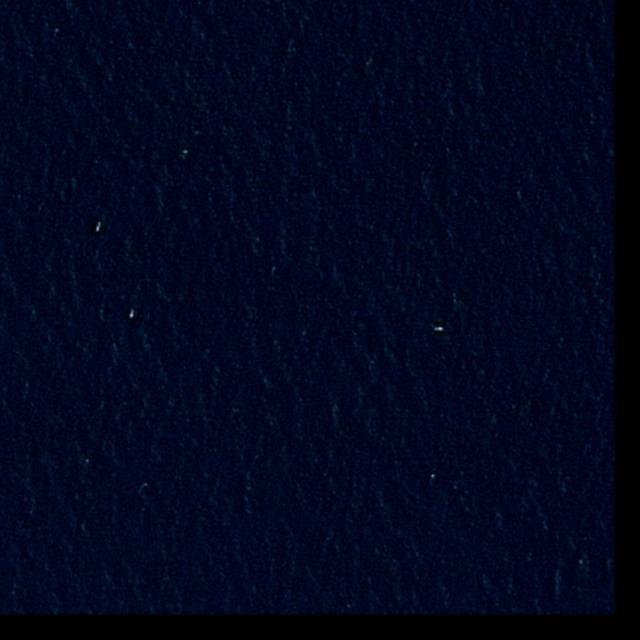ship: (436, 327, 444, 332), (96, 226, 100, 232), (130, 314, 134, 319)
